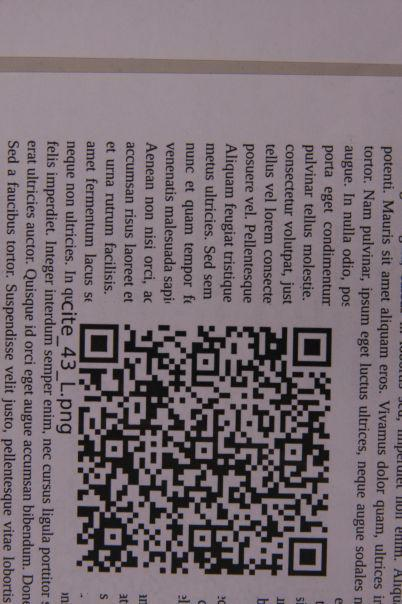Finder pattern: (284, 532, 337, 581), (289, 322, 338, 374), (75, 318, 124, 368)
